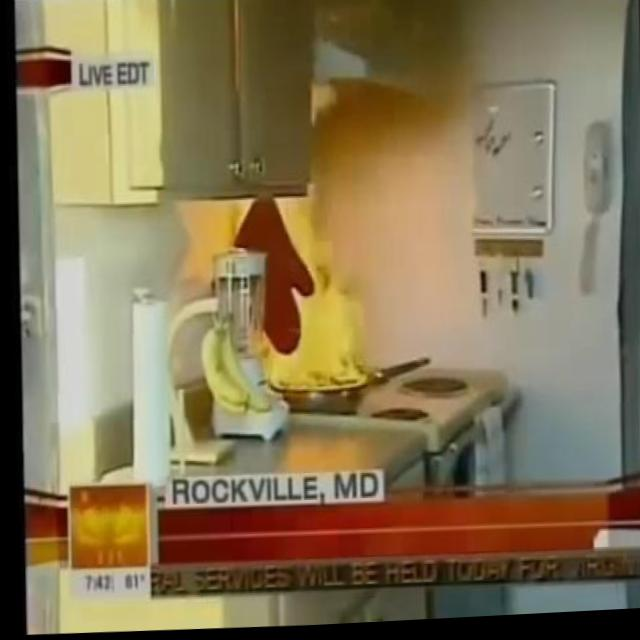fire: (229, 195, 374, 395)
